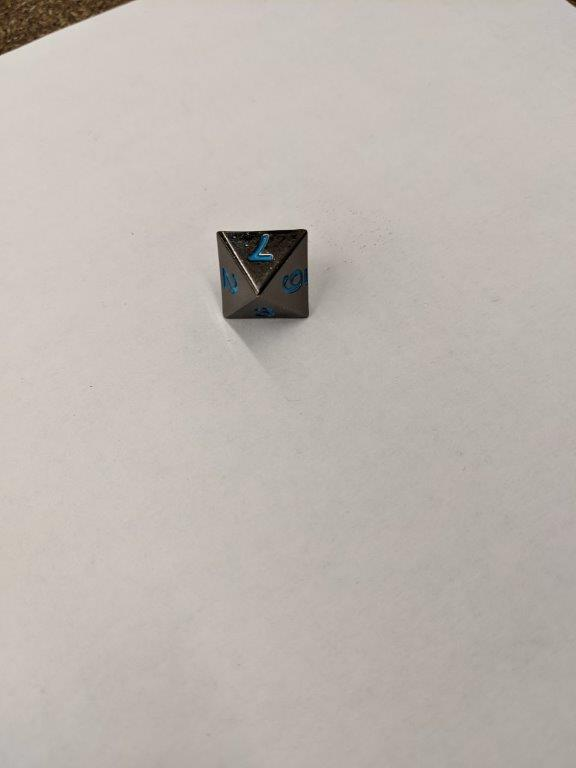d8-7: (214, 226, 313, 322)
